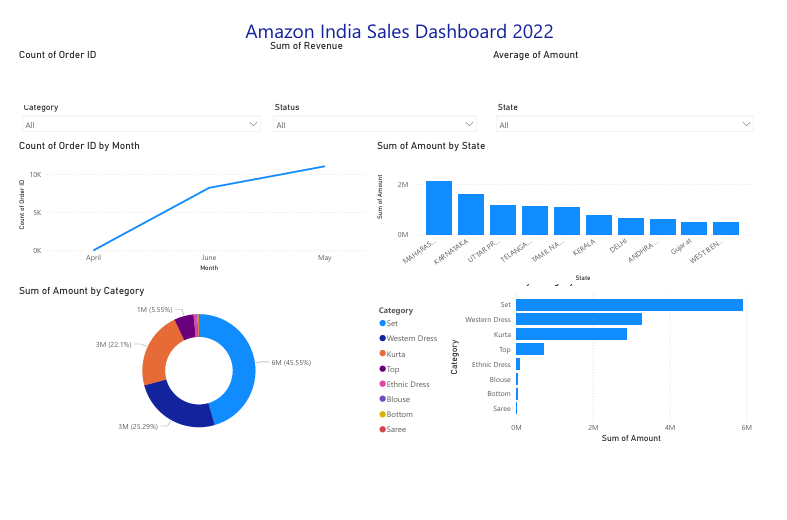

Layout of this report page (visuals, bound fields, positions):
{"tool":"powerbi","page":{"name":"Page 1","canvas":[1280,720],"ordinal":0},"visuals":[{"type":"lineChart","fields":{"Y":["CountNonNull(Amazon_Cleaned.Order ID)"],"Category":["Amazon_Cleaned.Month"]},"box":[0,208.3,596.7,225],"z":0},{"type":"donutChart","fields":{"Y":["Sum(Amazon_Cleaned.Amount)"],"Category":["Amazon_Cleaned.Category"]},"box":[0,450,716.7,270],"z":1000},{"type":"clusteredBarChart","fields":{"Y":["Sum(Amazon_Cleaned.Amount)"],"Category":["Amazon_Cleaned.Category"]},"box":[716.7,433.3,515,286.7],"z":2000},{"type":"clusteredColumnChart","fields":{"Category":["Amazon_Cleaned.State"],"Y":["Sum(Amazon_Cleaned.Amount)"]},"box":[596.7,208.3,635,241.7],"z":3000},{"type":"slicer","fields":{"Values":["Amazon_Cleaned.State"]},"box":[790,141.7,450,66.7],"z":4000},{"type":"slicer","fields":{"Values":["Amazon_Cleaned.Status"]},"box":[418.3,141.7,360,66.7],"z":5000},{"type":"slicer","fields":{"Values":["Amazon_Cleaned.Category"]},"box":[0,141.7,418.3,66.7],"z":6000},{"type":"textbox","box":[0,0,1279,57.1],"z":7000},{"type":"cardVisual","fields":{"Data":["CountNonNull(Amazon_Cleaned.Order ID)"]},"box":[0,56.7,418.3,95],"z":8000},{"type":"cardVisual","fields":{"Data":["Sum(Amazon_Cleaned.Revenue)"]},"box":[418.3,41.7,371.7,100],"z":9000},{"type":"cardVisual","fields":{"Data":["Avg(Amazon_Cleaned.Amount)"]},"box":[789.5,42,450.2,102.5],"z":10000}]}

Visuals, with their boxes on the page's 1280x720 design canvas (x1, y1, x2, y2). These are canvas units, not pixel positions in the 787x520 screenshot, which may show the page scaled, cropped or inside an application window:
lineChart - CountNonNull(Amazon_Cleaned.Order ID) x Amazon_Cleaned.Month: 0:208:597:433
donutChart - Sum(Amazon_Cleaned.Amount) x Amazon_Cleaned.Category: 0:450:717:720
clusteredBarChart - Sum(Amazon_Cleaned.Amount) x Amazon_Cleaned.Category: 717:433:1232:720
clusteredColumnChart - Amazon_Cleaned.State x Sum(Amazon_Cleaned.Amount): 597:208:1232:450
slicer - Amazon_Cleaned.State: 790:142:1240:208
slicer - Amazon_Cleaned.Status: 418:142:778:208
slicer - Amazon_Cleaned.Category: 0:142:418:208
textbox: 0:0:1279:57
cardVisual - CountNonNull(Amazon_Cleaned.Order ID): 0:57:418:152
cardVisual - Sum(Amazon_Cleaned.Revenue): 418:42:790:142
cardVisual - Avg(Amazon_Cleaned.Amount): 790:42:1240:144
